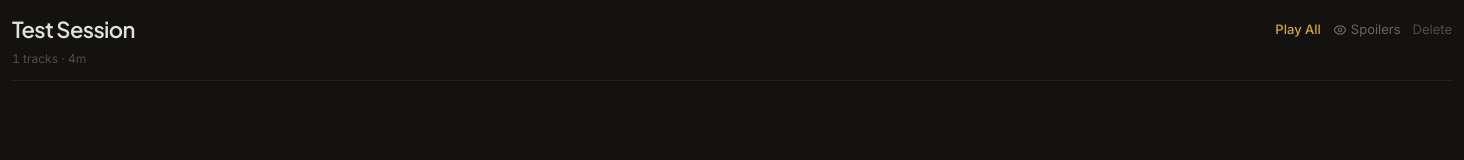
Test case: PlaylistHeader › when title is clicked › should enter edit mode and show textarea
Click the title button to enter edit mode
Click the button "Test Session". click: [73, 29]
box: [12,16,135,42]
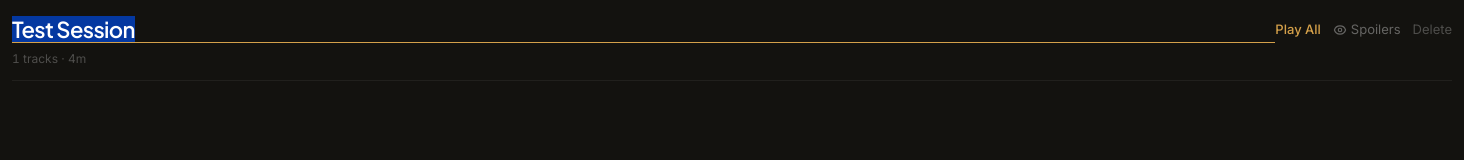
Expected: the field holds "Test Session", [12,16,1275,43]
